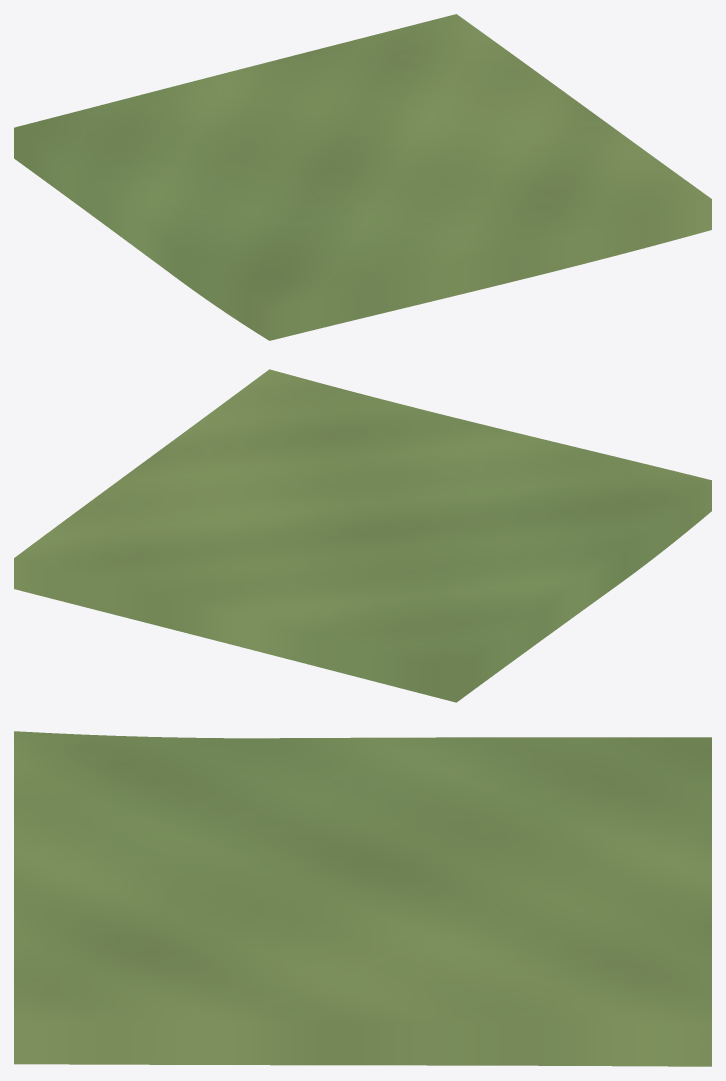
3 renders of one model, top to bottom at view 1: azimuth 30°, elevation 25°; view 2: azimuth 150°, elevation 25°; view 3: azimuth 270°, elevation 25°, orthographic. The views are drawn at different scales.
Parts seen in each view (by area): view 1: terrain; view 2: terrain; view 3: terrain.
Part boxes in pixels (box(x1,y1,x2,y2)): terrain: box(14, 14, 711, 340); terrain: box(14, 369, 711, 702); terrain: box(14, 731, 711, 1066).
Bounding box in the file's own units: 30 × 2.53 × 30.
